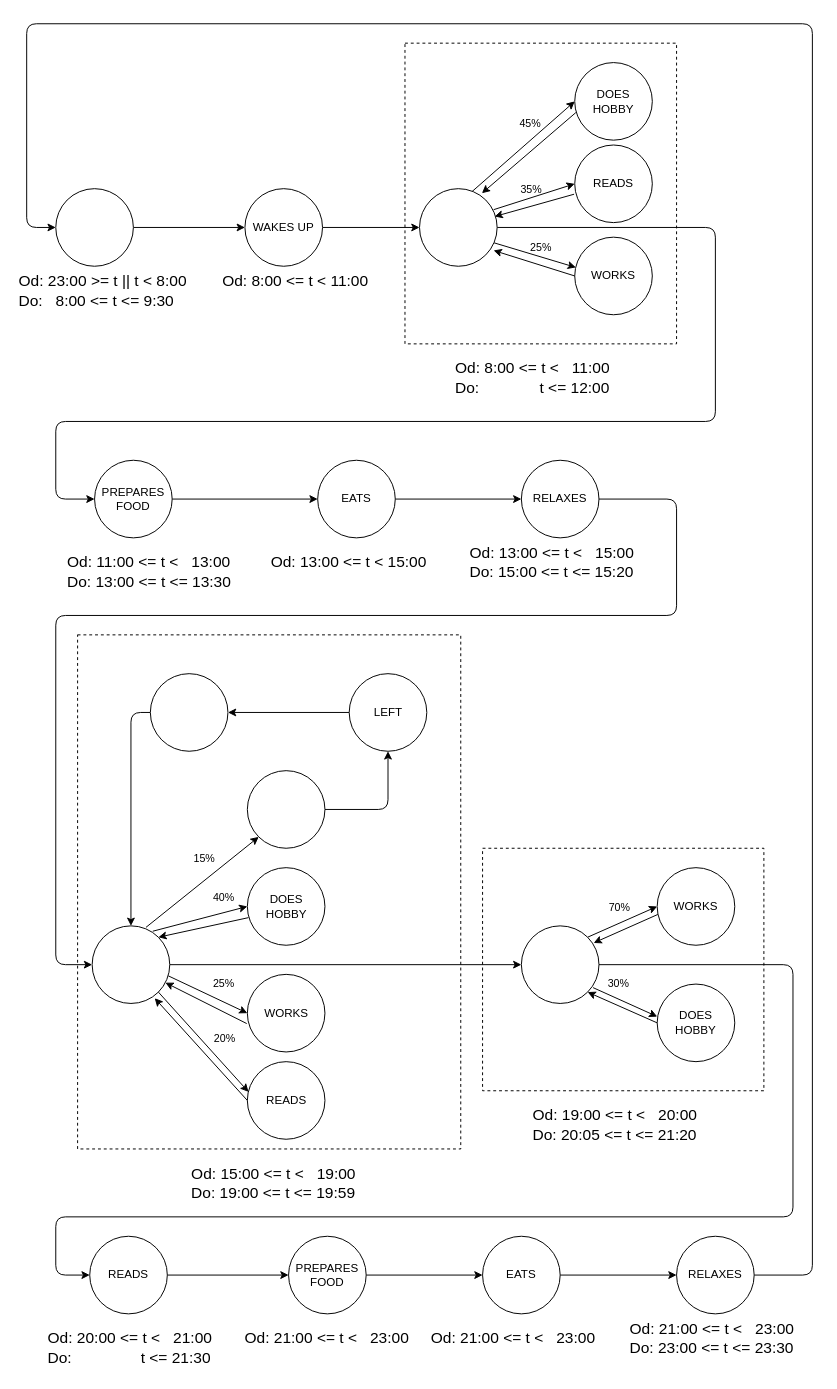
The diagram is 837 pixels wide and 1389 high, and some of its shapes have lost their labels. The centre of each missing label's shape, as x and y in pixels:
"ARRIVES" goes at point 188,712.
"PREPARES TO LEAVE" goes at point 285,809.
"SLEEPS" goes at point 94,227.
